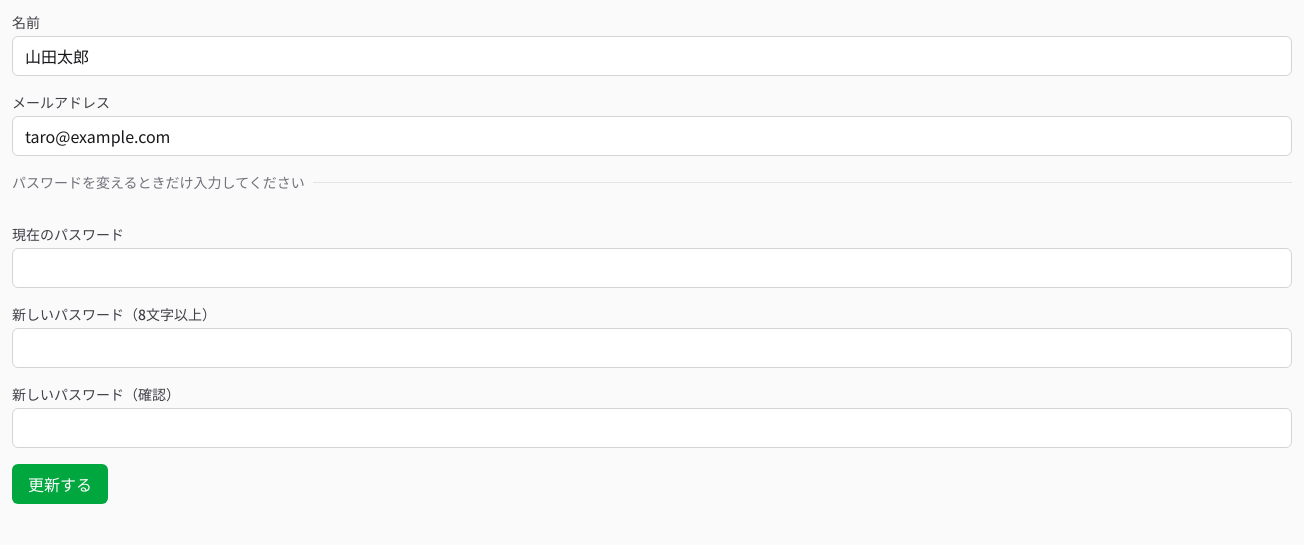
it: 新しいパスワードを入れたのに現在のパスワードが空なら、送らない
Type "newpassword" into the password field labelled "新しいパスワード（8文字以上）".
click(652, 348); type("newpassword")  # box left=12, top=328, right=1292, bottom=368
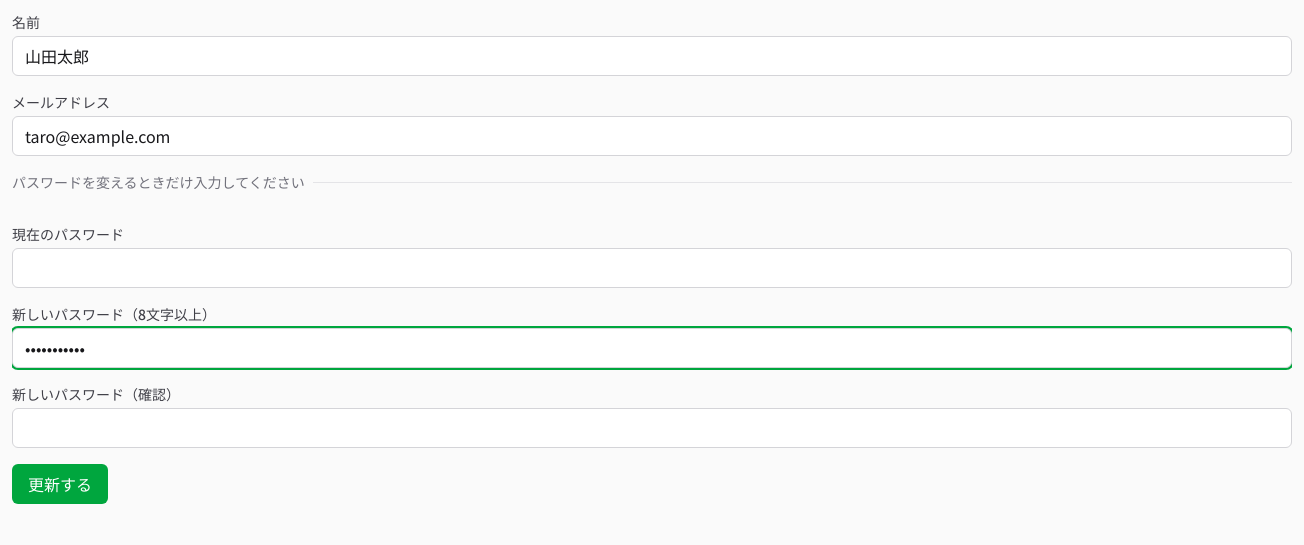
Type "newpassword" into the password field labelled "新しいパスワード（確認）".
click(652, 428); type("newpassword")  # box left=12, top=408, right=1292, bottom=448
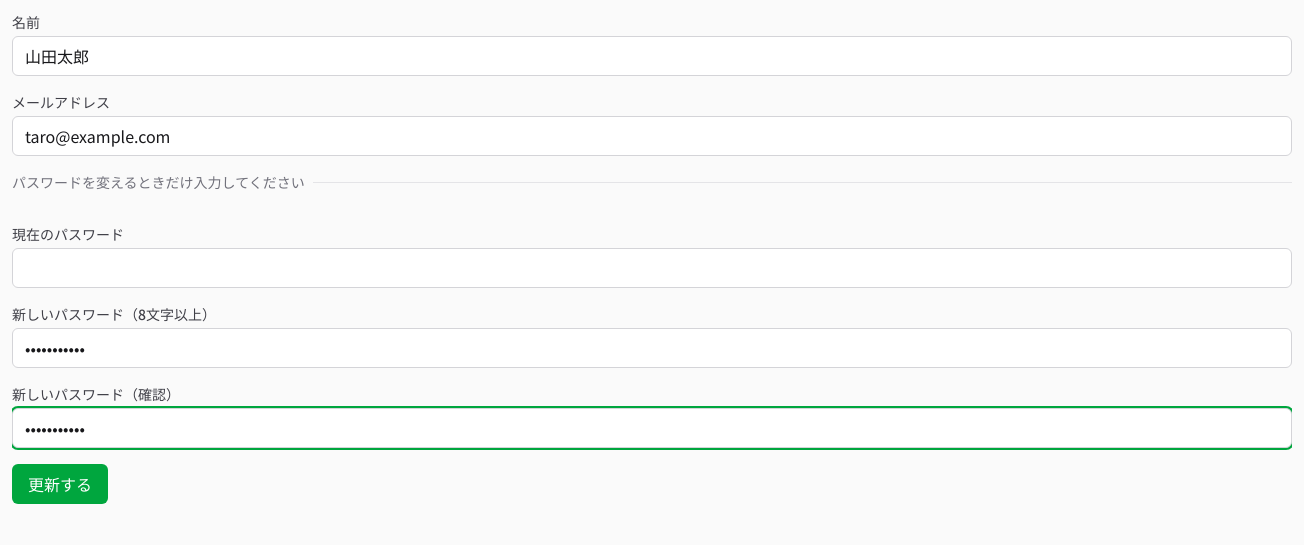
Click the button "更新する".
click(60, 484)  # box left=12, top=464, right=108, bottom=504
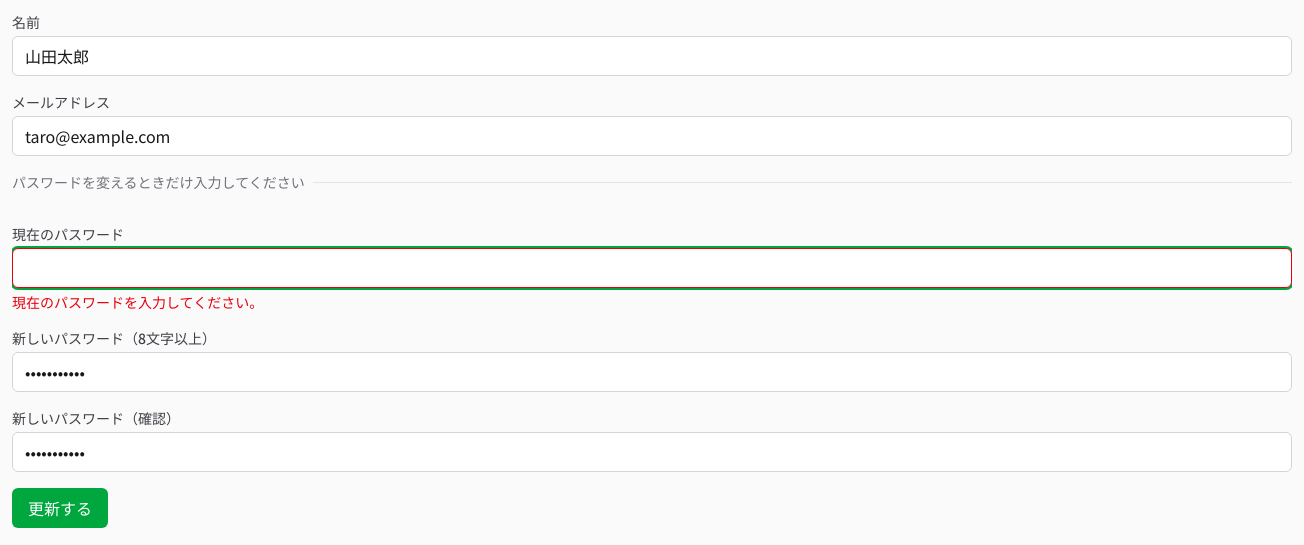
Expected: the text "現在のパスワードを入力してください。" is shown, left=12, top=292, right=263, bottom=312
